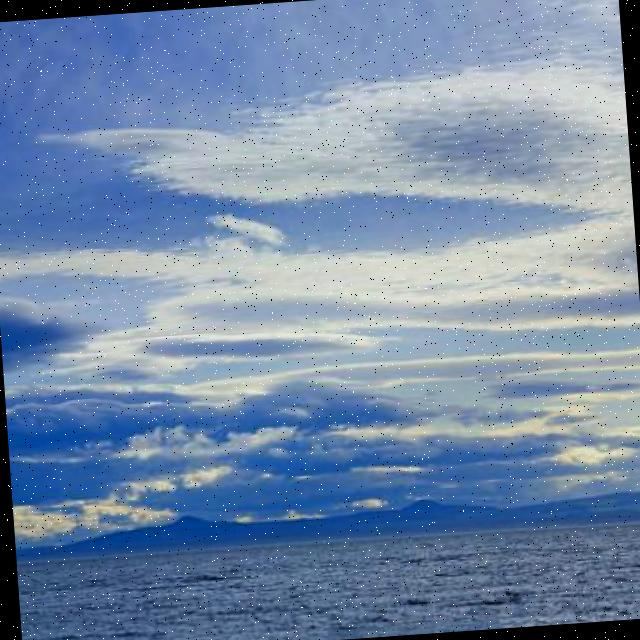Cc: (91, 24, 640, 374)
